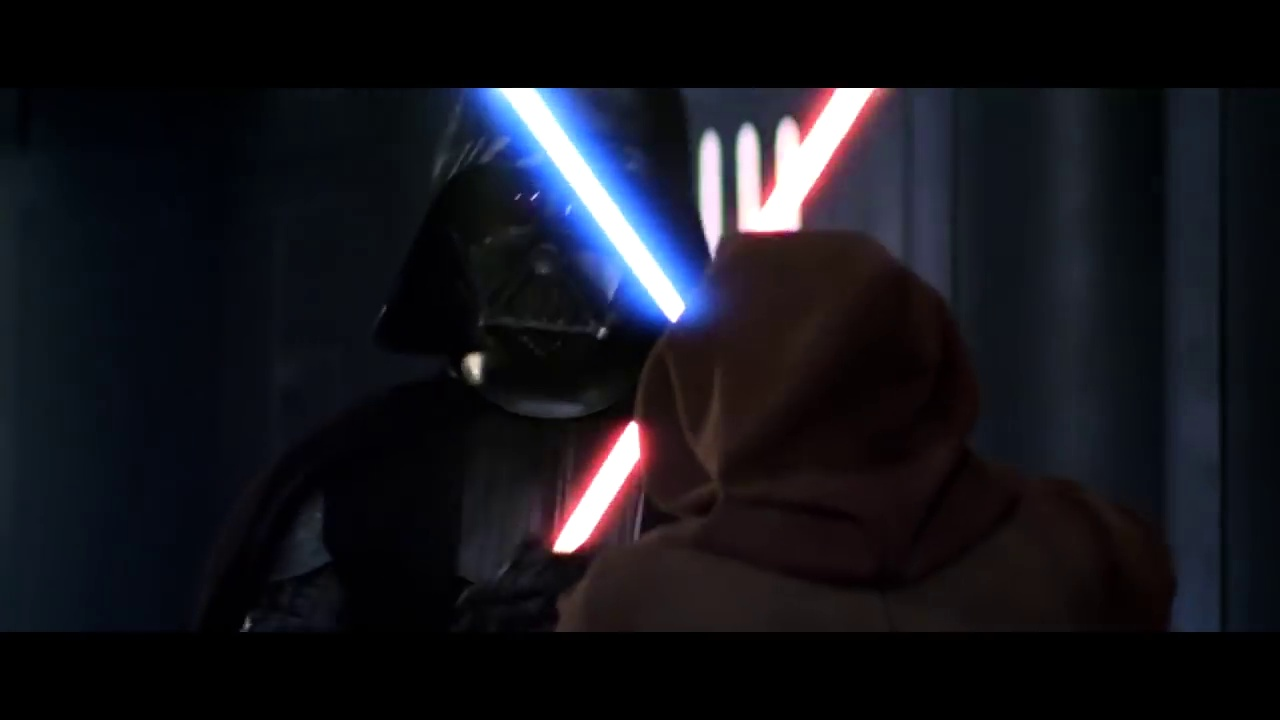lightsaber: (540, 85, 875, 576)
